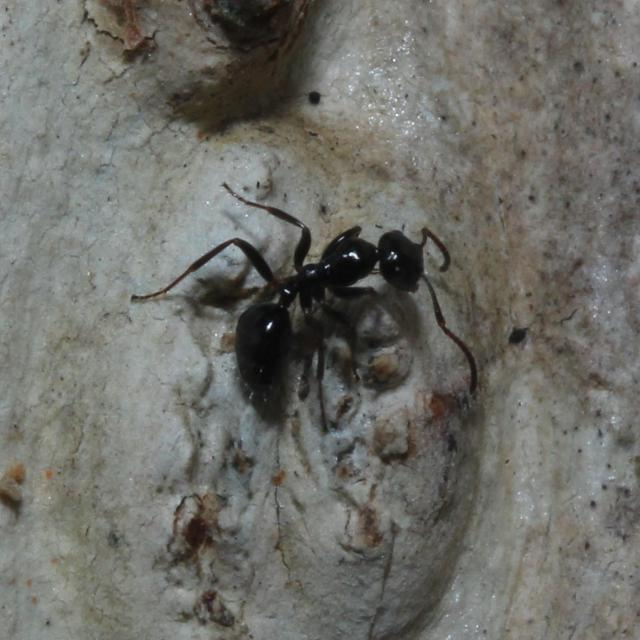Colobopsis: (184, 180, 461, 394)
